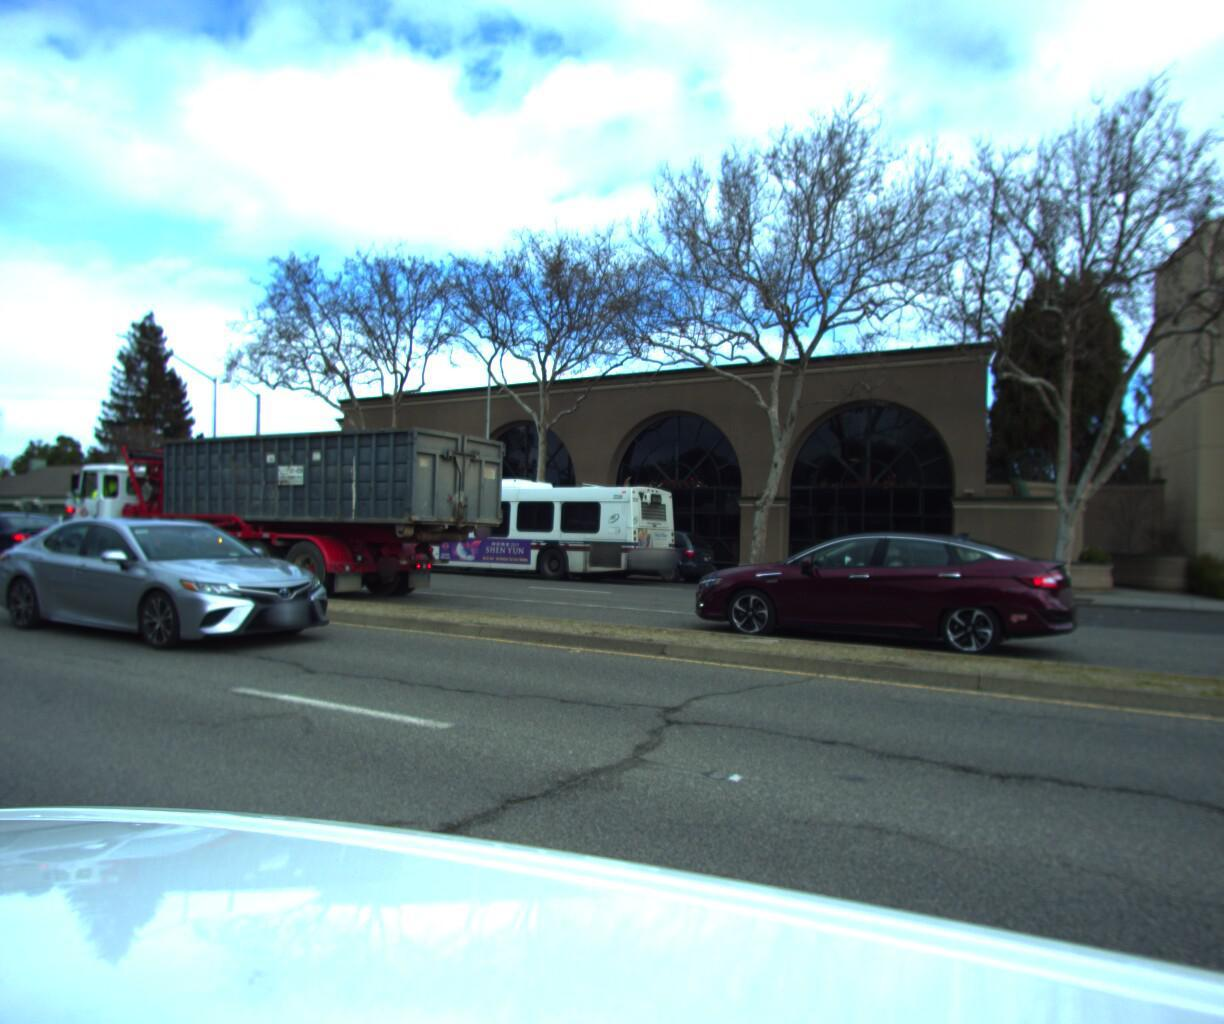bus: (287, 465, 690, 586)
car: (685, 526, 1089, 669), (0, 513, 356, 664), (575, 523, 721, 584), (0, 509, 84, 573)
truck: (59, 422, 510, 620)
